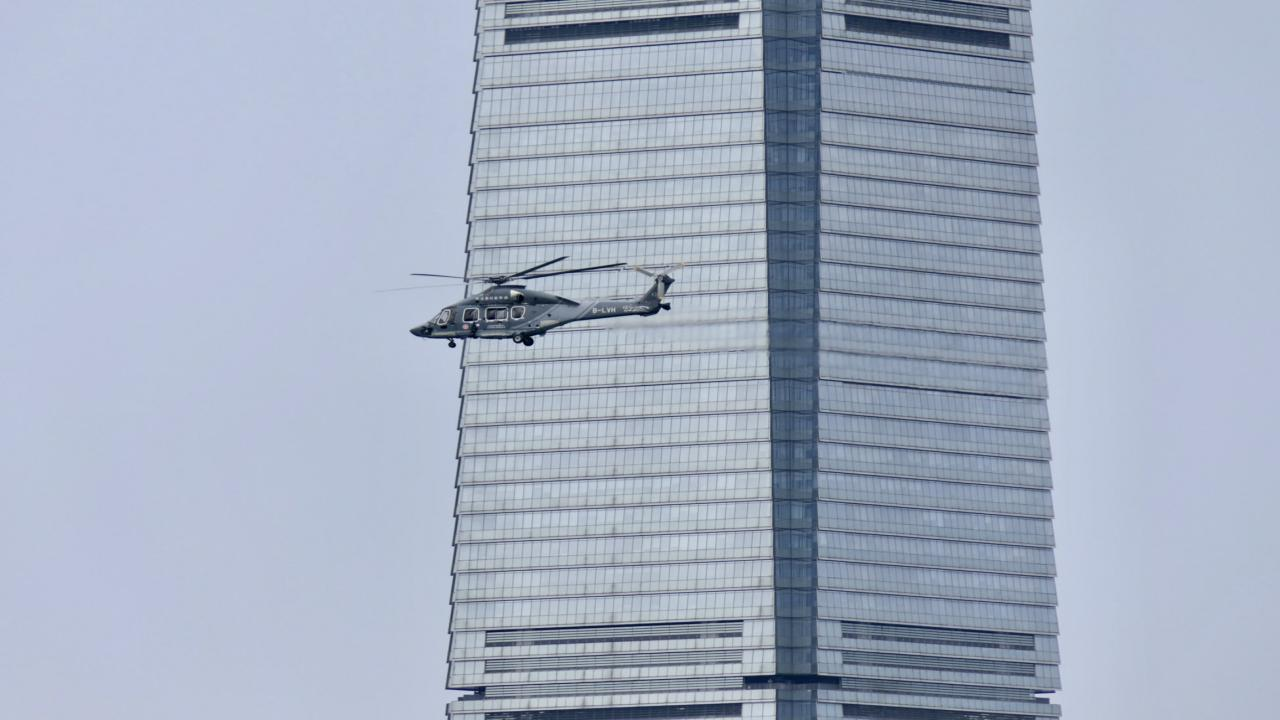Helicopter: (392, 243, 702, 362)
